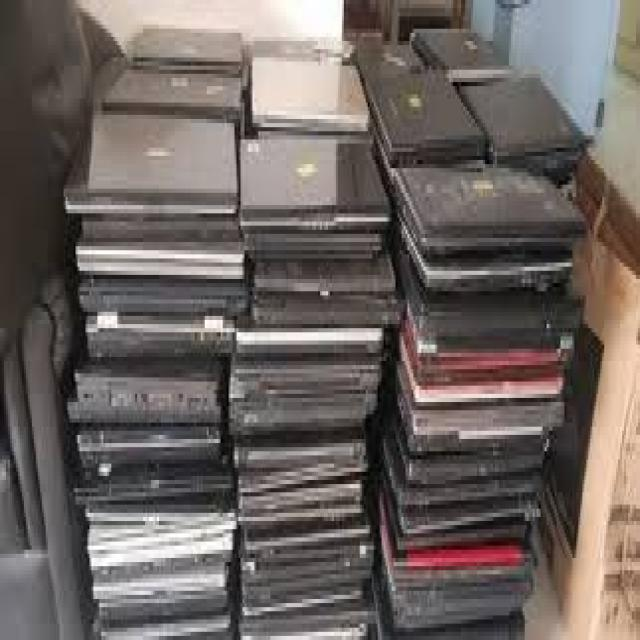hazard: (28, 33, 573, 640)
